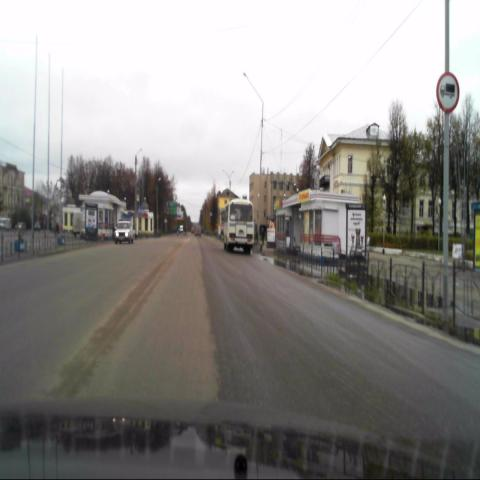3_4_1: (436, 72, 460, 113)
